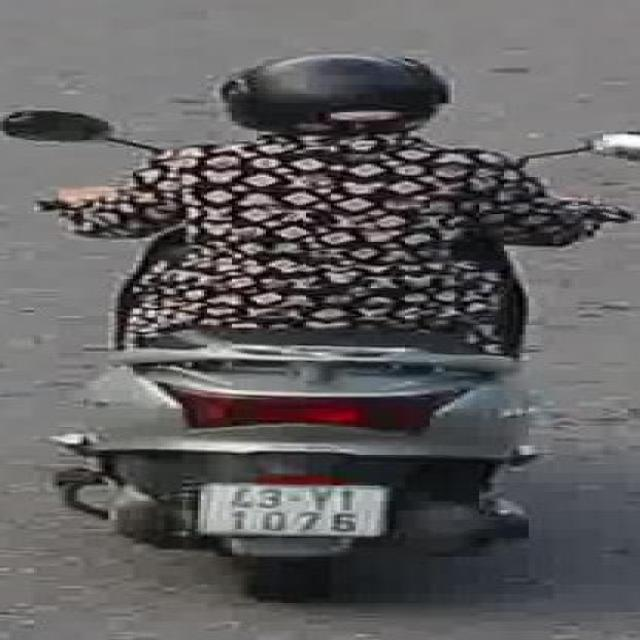LP: (192, 472, 411, 546)
helmet: (205, 46, 450, 138)
